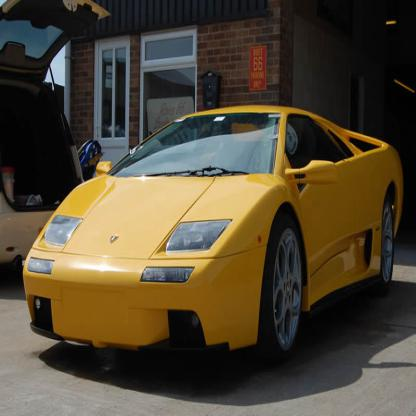Vehicle: (22, 100, 407, 379)
